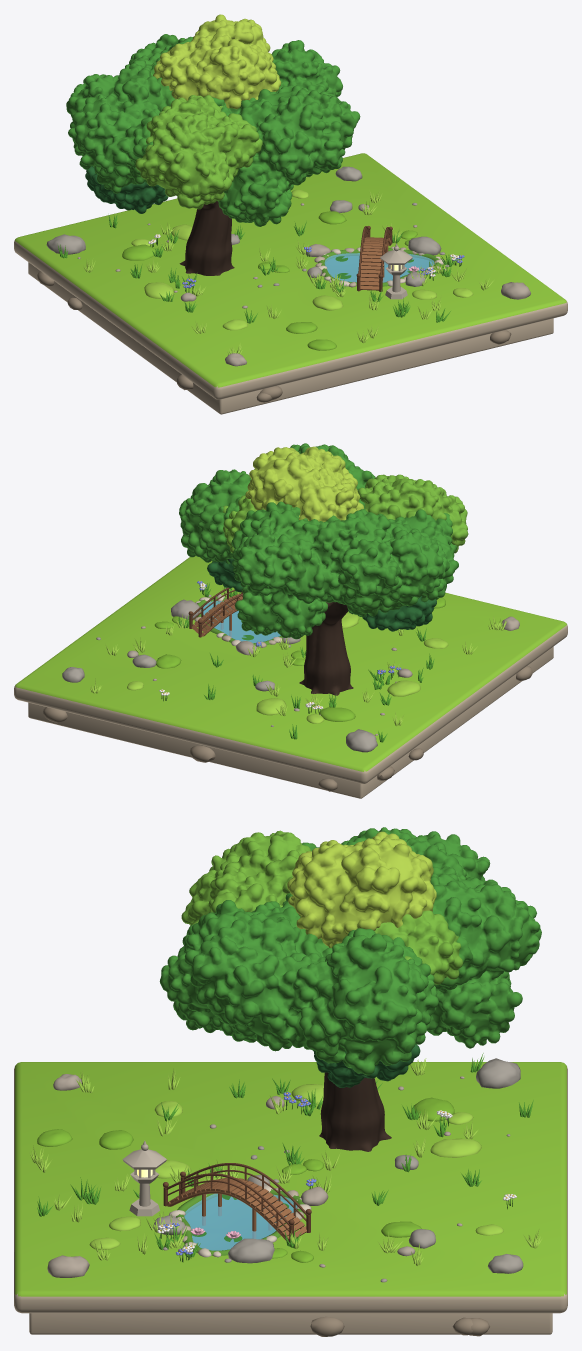
The model's file is summer.glb.
3 renders of one model, top to bottom at view 1: azimuth 30°, elevation 25°; view 2: azimuth 150°, elevation 25°; view 3: azimuth 270°, elevation 25°, orthographic. The views are drawn at different scales.
Visible parts, largest first — view 1: Base, Blossoms, Grass, Rocks, Trunk, Bridge, Water, Pond, Lantern, Flowers; view 2: Base, Blossoms, Grass, Trunk, Rocks, Bridge, Water, Pond; view 3: Base, Blossoms, Grass, Rocks, Bridge, Trunk, Water, Lantern, Pond, Flowers.
Part boxes in pixels (x1=…): Base: x1=14, y1=153, x2=567, y2=414; Blossoms: x1=66, y1=14, x2=360, y2=226; Grass: x1=58, y1=177, x2=493, y2=354; Rocks: x1=46, y1=166, x2=530, y2=366; Trunk: x1=179, y1=201, x2=234, y2=275; Bridge: x1=356, y1=226, x2=392, y2=291; Water: x1=324, y1=253, x2=434, y2=282; Pond: x1=314, y1=246, x2=443, y2=287; Lantern: x1=380, y1=243, x2=412, y2=299; Flowers: x1=148, y1=234, x2=464, y2=293; Base: x1=14, y1=556, x2=567, y2=798; Blossoms: x1=179, y1=443, x2=468, y2=639; Grass: x1=90, y1=583, x2=507, y2=742; Trunk: x1=299, y1=602, x2=353, y2=695; Rocks: x1=62, y1=594, x2=519, y2=752; Bridge: x1=188, y1=587, x2=243, y2=637; Water: x1=201, y1=601, x2=280, y2=643; Pond: x1=194, y1=595, x2=282, y2=647; Base: x1=14, y1=1062, x2=567, y2=1336; Blossoms: x1=159, y1=827, x2=541, y2=1087; Grass: x1=29, y1=1053, x2=542, y2=1265; Rocks: x1=47, y1=1058, x2=523, y2=1282; Bridge: x1=163, y1=1163, x2=311, y2=1242; Trunk: x1=319, y1=1072, x2=391, y2=1151; Water: x1=184, y1=1193, x2=297, y2=1250; Lantern: x1=122, y1=1140, x2=166, y2=1216; Pond: x1=169, y1=1185, x2=311, y2=1257; Flowers: x1=157, y1=1092, x2=516, y2=1262.
Bounding box in the file's own units: 73.5 × 52 × 72.
